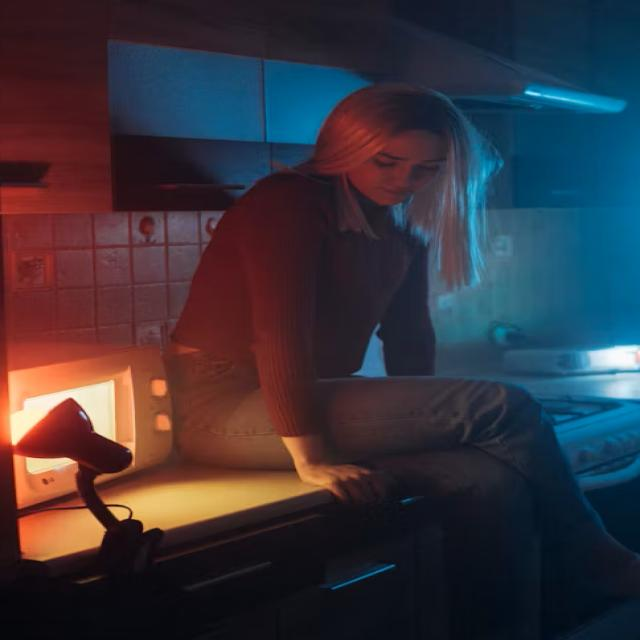Edited images: (159, 65, 630, 610)
